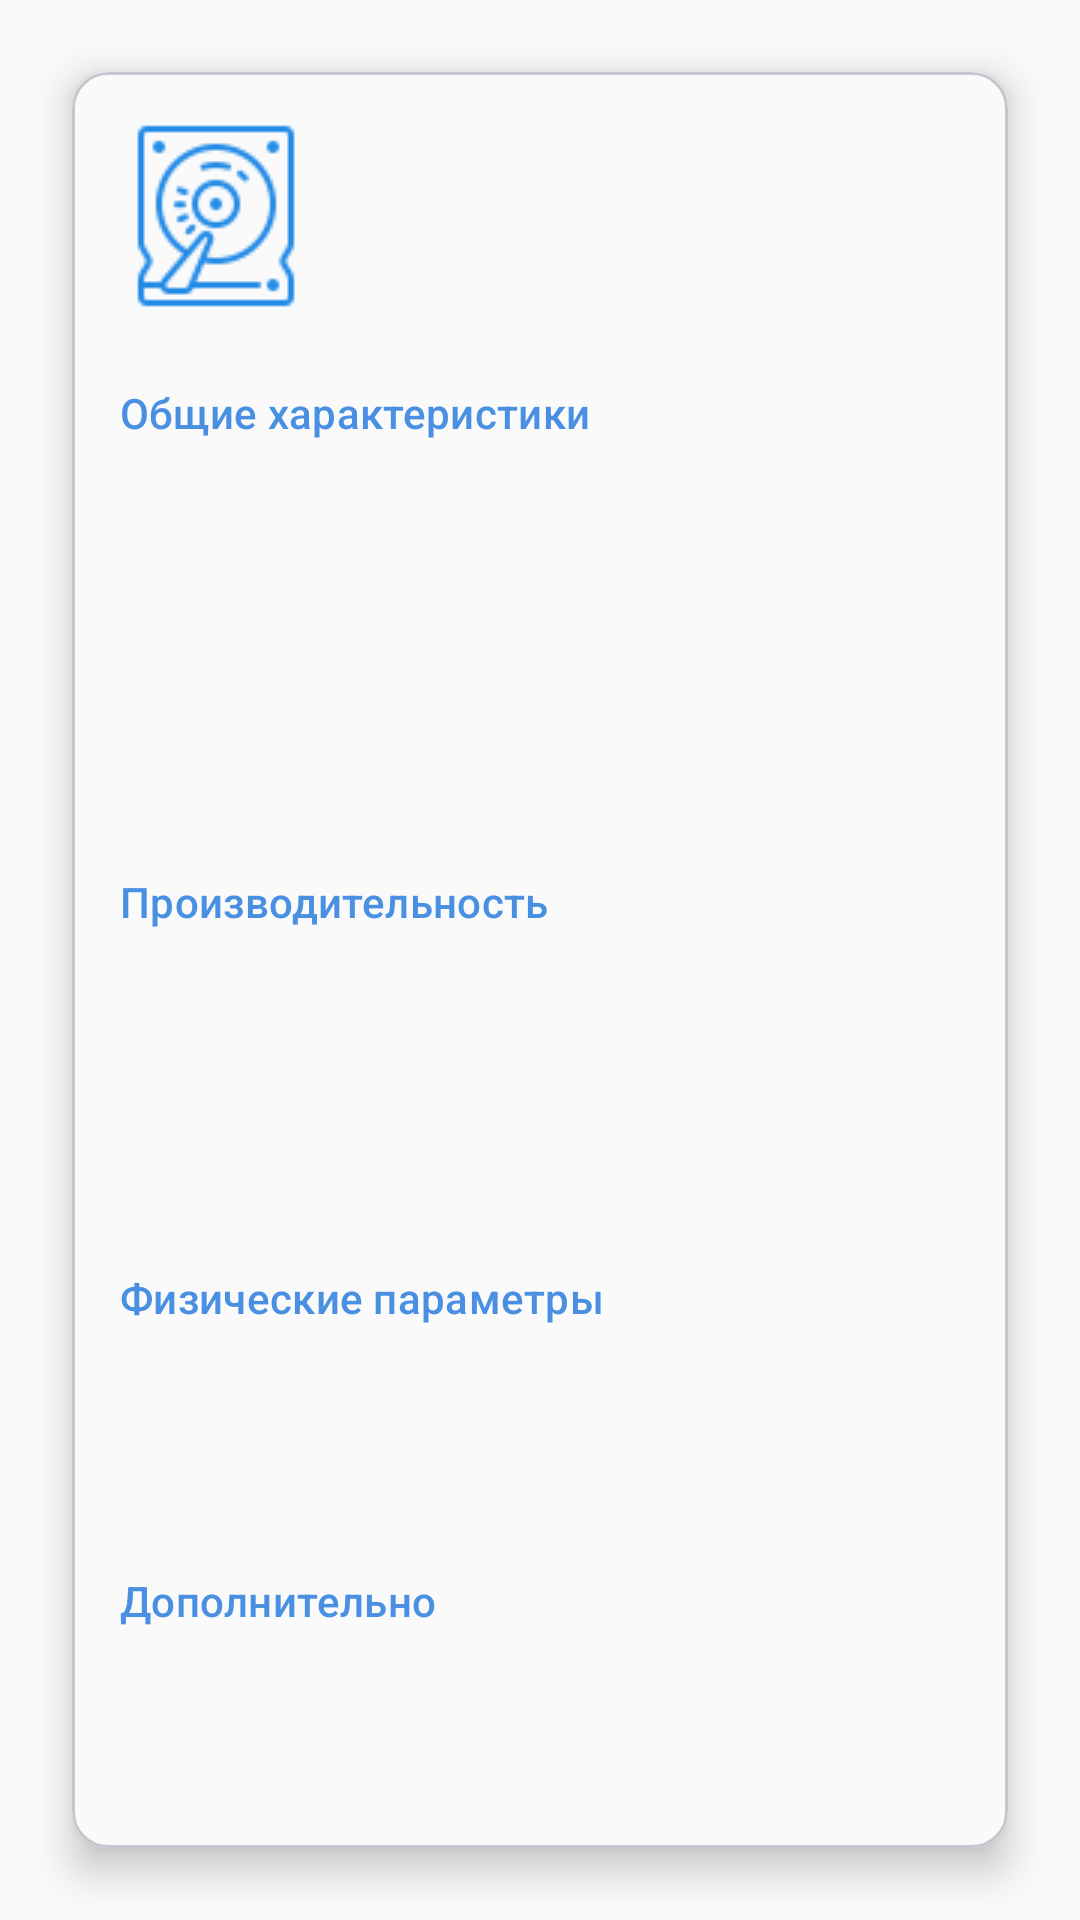

Locate icon controls on the screen. Image size 1080x1920, boxes as box(x1, y1, x2, y2).
Изображение типа накопителя: box(137, 125, 295, 307)
